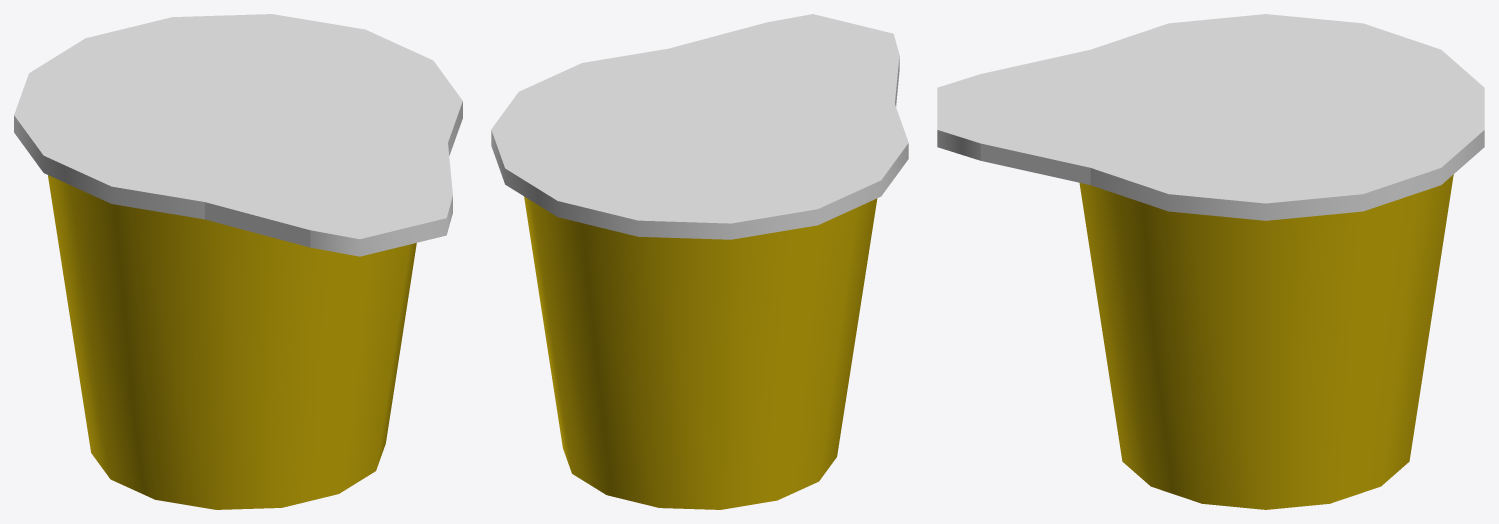
The model's file is Super_Splash_Powerup.fbx.
The picture shows the model from 3 angles, left to right: view 1: azimuth 30°, elevation 25°; view 2: azimuth 150°, elevation 25°; view 3: azimuth 270°, elevation 25°; orthographic projection. The views are drawn at different scales.
Parts seen in each view (by area): view 1: pCylinder35; view 2: pCylinder35; view 3: pCylinder35.
Boxes of the visible parts, <box> form: pCylinder35: <box>14,14,462,509</box>; pCylinder35: <box>491,14,908,509</box>; pCylinder35: <box>937,14,1484,509</box>.
Bounding box in the file's own units: 13.07 × 10.9 × 15.94.
